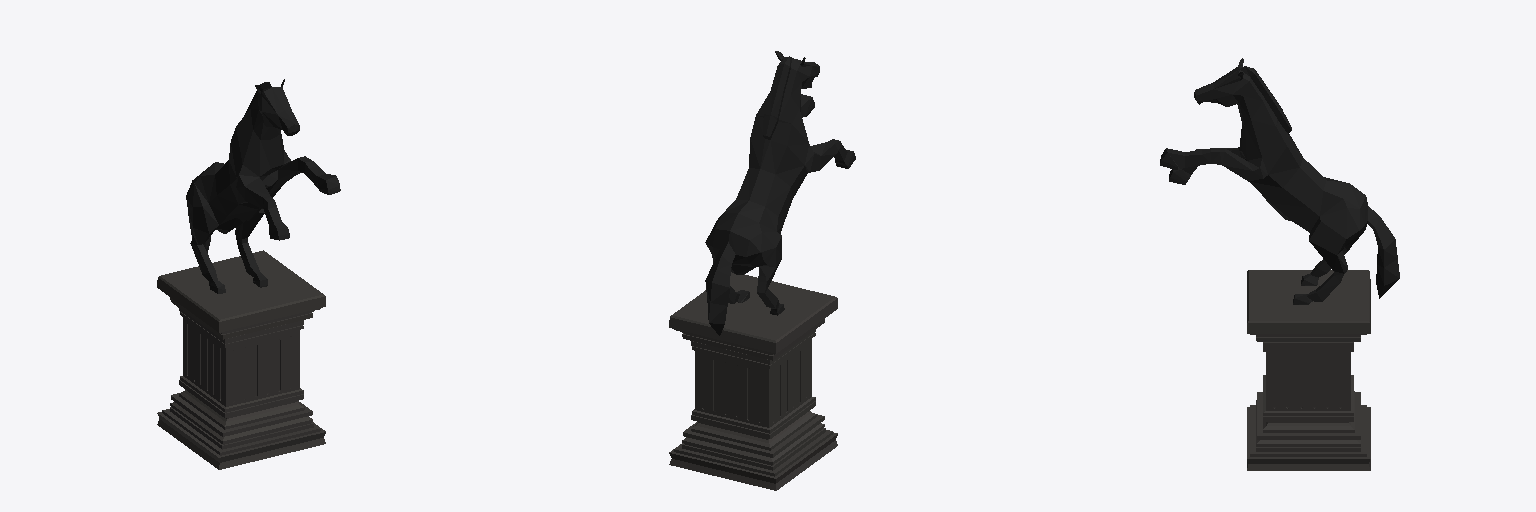
Rendered from Statue_Horse.obj.
The picture shows the model from 3 angles: view 1: azimuth 30°, elevation 25°; view 2: azimuth 150°, elevation 25°; view 3: azimuth 270°, elevation 25°; orthographic projection.
Visible parts, largest first — view 1: Statue_Horse.001; view 2: Statue_Horse.001; view 3: Statue_Horse.001.
Boxes of the visible parts, box(x1,y1,x2,y2) form: Statue_Horse.001: box(157, 79, 340, 469); Statue_Horse.001: box(669, 51, 855, 490); Statue_Horse.001: box(1160, 58, 1399, 470).
Size of the model in its own units: 1.74 by 5.85 by 3.38.